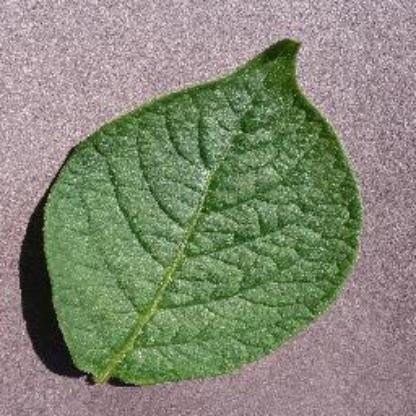Healthy-plant: (37, 37, 367, 391)
